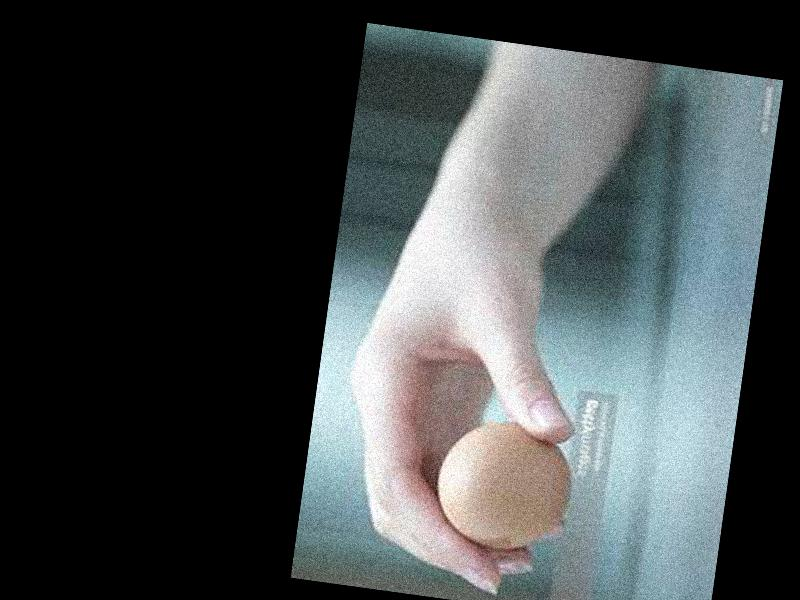Eggs: (428, 410, 581, 557)
